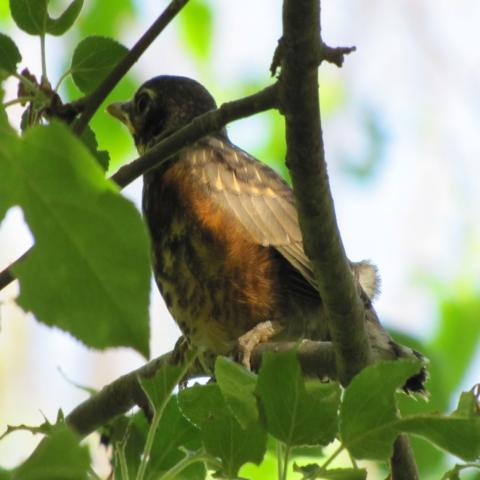bird: (103, 72, 432, 403)
